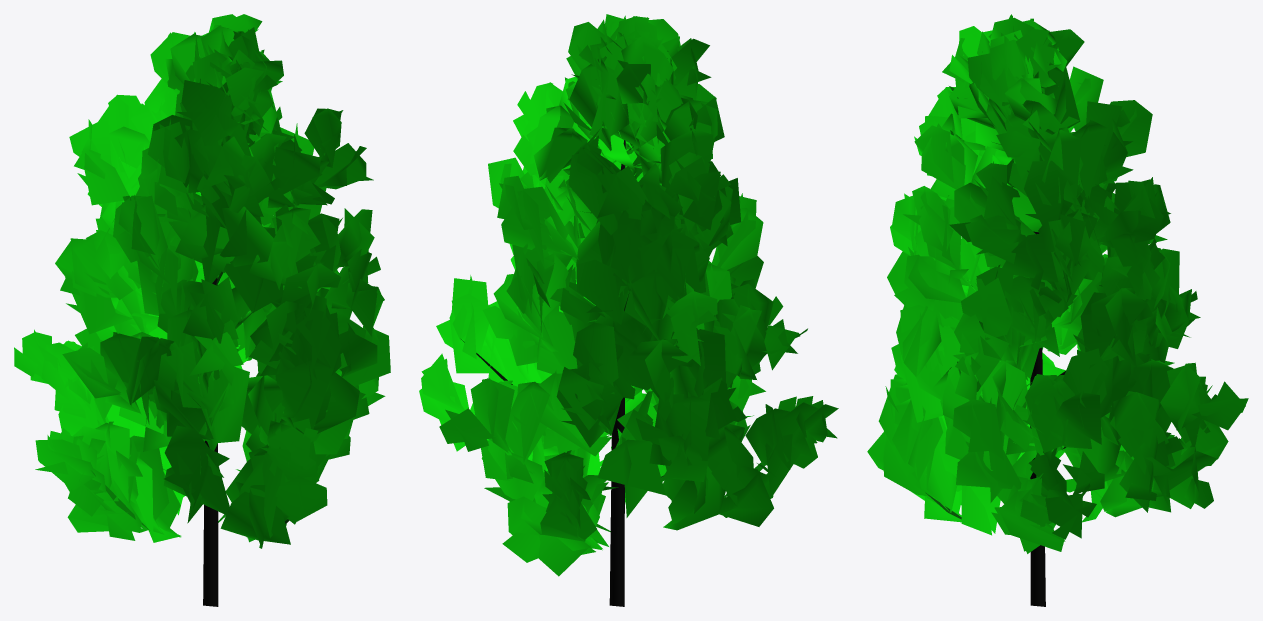
The model's file is Tree S2.FBX.
The picture shows the model from 3 angles, left to right: view 1: azimuth 30°, elevation 25°; view 2: azimuth 150°, elevation 25°; view 3: azimuth 270°, elevation 25°; orthographic projection.
Parts seen in each view (by area): view 1: S2_LOD1; view 2: S2_LOD1; view 3: S2_LOD1.
Part boxes in pixels (x1,y1,x2,y2): S2_LOD1: (14,14,390,606); S2_LOD1: (419,14,838,606); S2_LOD1: (867,14,1248,606).
Size of the model in its own units: 348 by 510 by 301.
